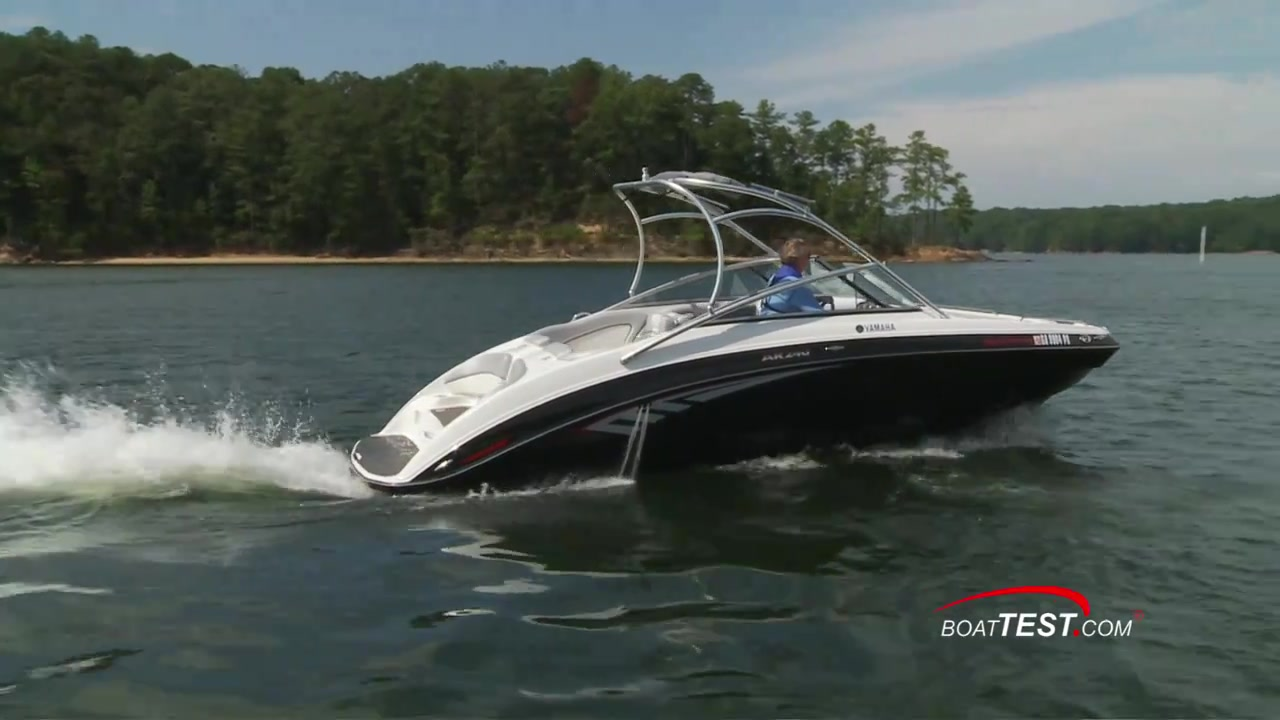boat: (350, 162, 1123, 502)
